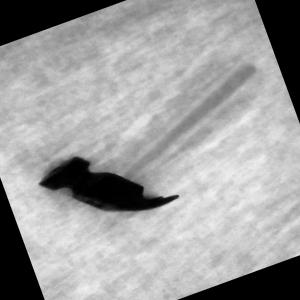martelo: (20, 54, 292, 245)
